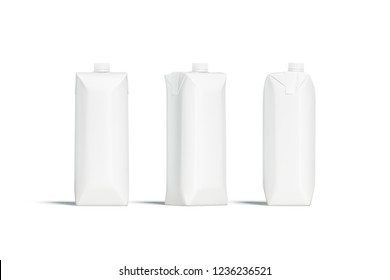carton: (150, 52, 235, 220), (247, 52, 329, 222), (61, 52, 142, 222)
